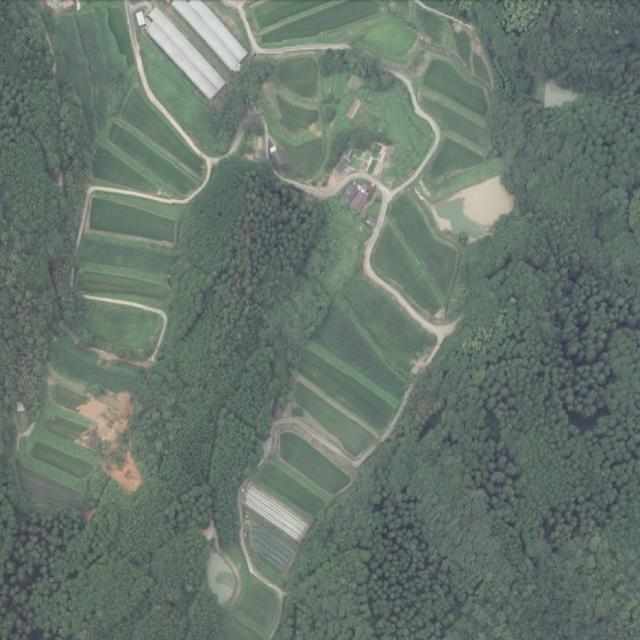landslide: (75, 391, 142, 494)
